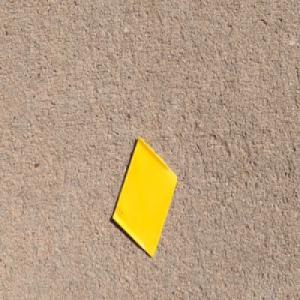PlasticPart: (112, 134, 178, 259)
